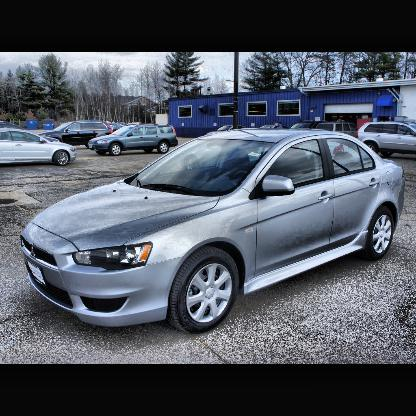Mitsubishi Lancer Sedan 2012: (20, 128, 406, 335)
